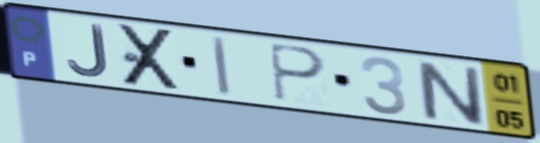3: (358, 54, 409, 117)
I: (209, 33, 234, 99)
J: (65, 22, 112, 80)
N: (412, 57, 490, 129)
P: (265, 40, 330, 104)
X: (115, 22, 185, 93)
